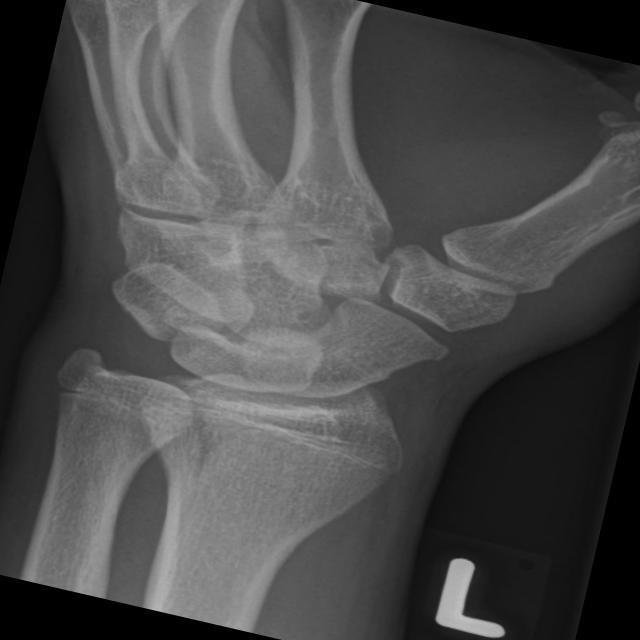fracture: (130, 374, 430, 496), (39, 366, 214, 453)
